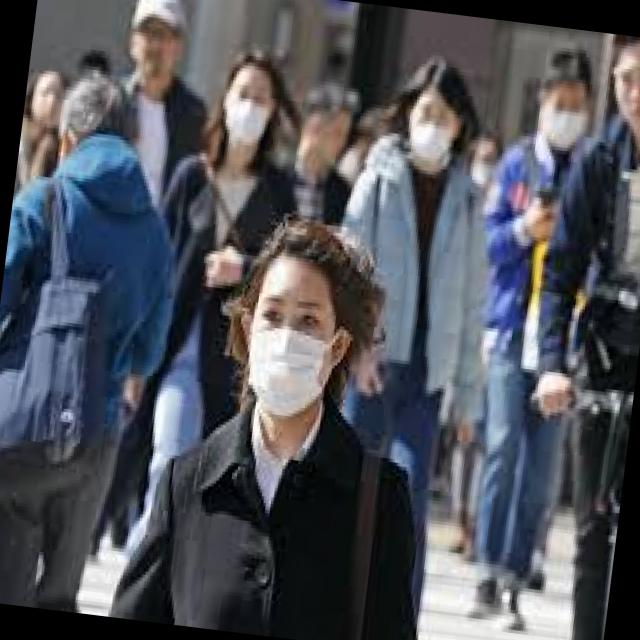Jacket: (109, 395, 443, 640), (0, 135, 195, 460), (309, 140, 511, 446), (136, 150, 304, 384), (467, 125, 612, 362), (535, 114, 640, 391)
